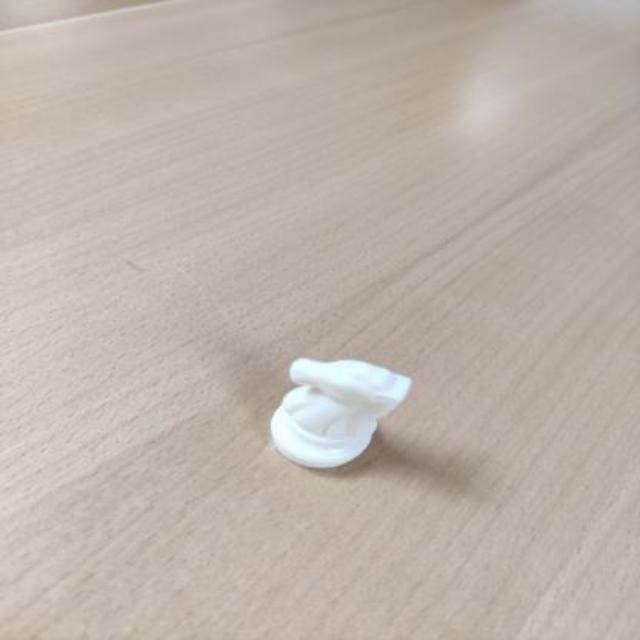white-knight: (266, 356, 412, 469)
